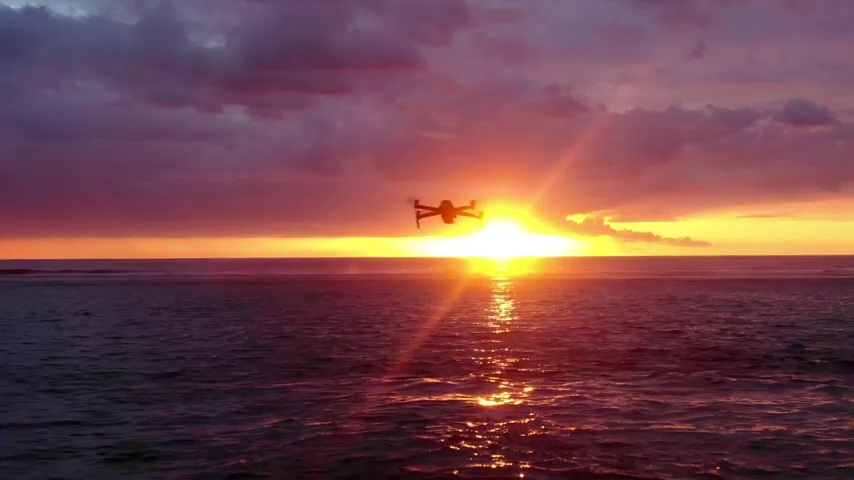drone: (413, 198, 484, 229)
